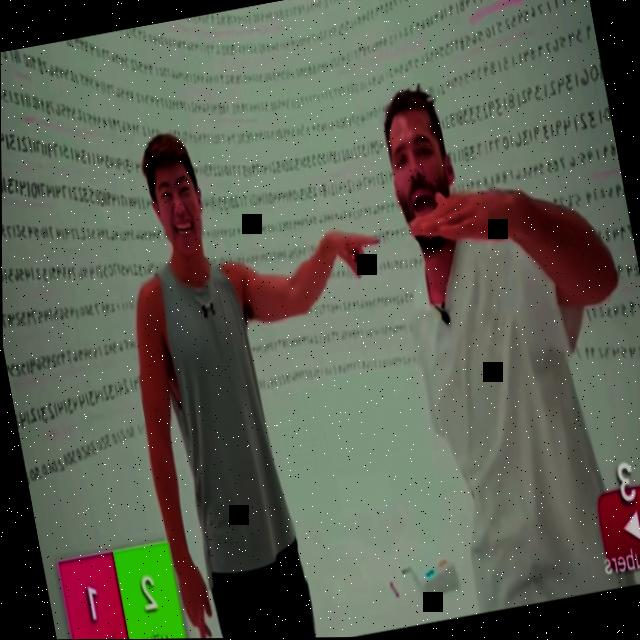Paper: (401, 175, 522, 256)
